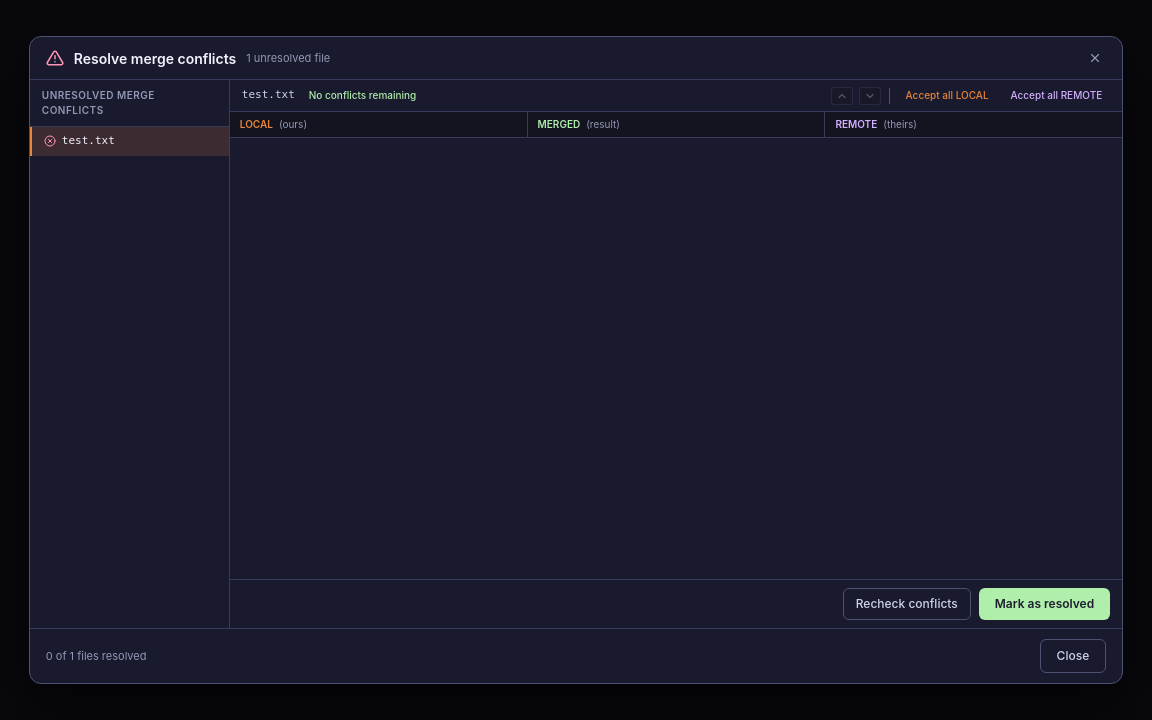
Test: MergeConflictDialog › shows 'all resolved' state and Continue button when all files resolved
Click the button "Mark as resolved" at (1044, 604), box [979, 588, 1110, 620]
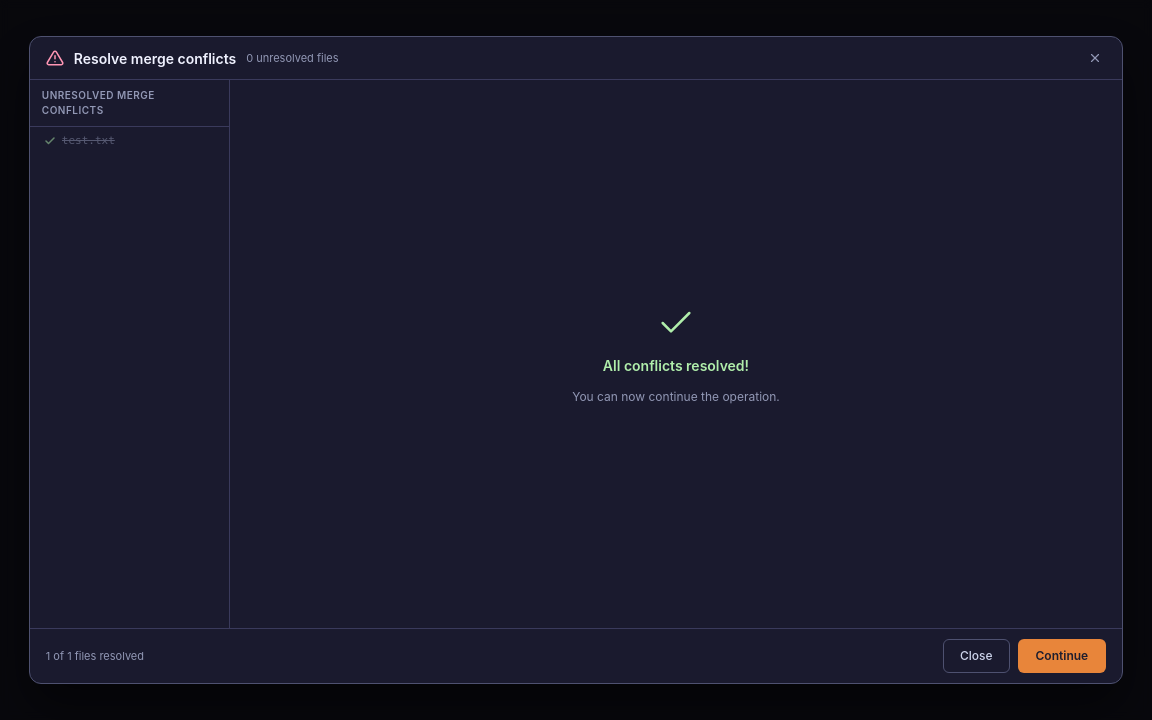
Check: the text "All conflicts resolved!" is shown, box [603, 354, 749, 376]
Check: the button "Continue" is shown, box [1018, 639, 1106, 673]
